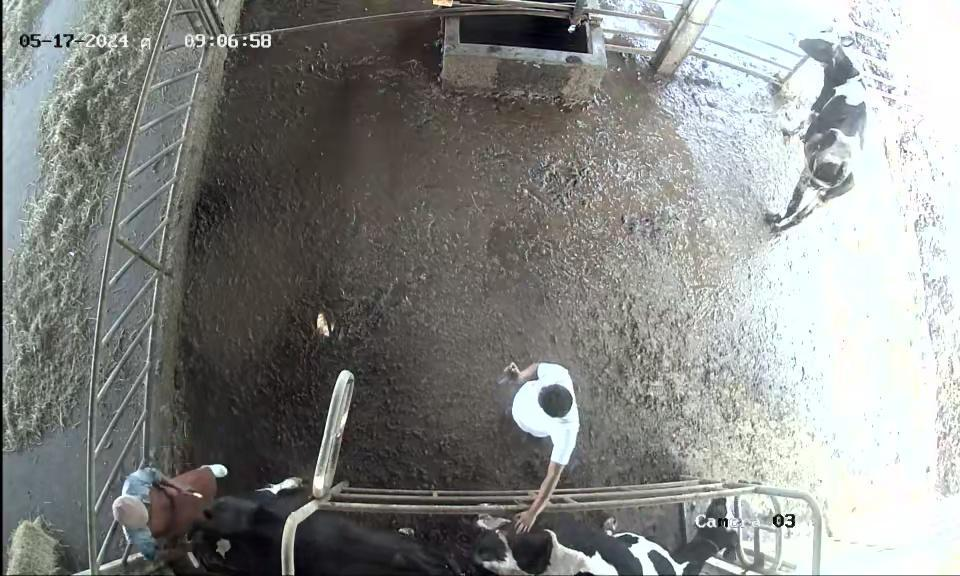stand: (751, 23, 877, 243), (190, 488, 468, 576), (475, 502, 753, 576)
